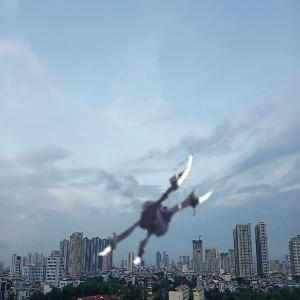drone: (82, 138, 219, 275)
